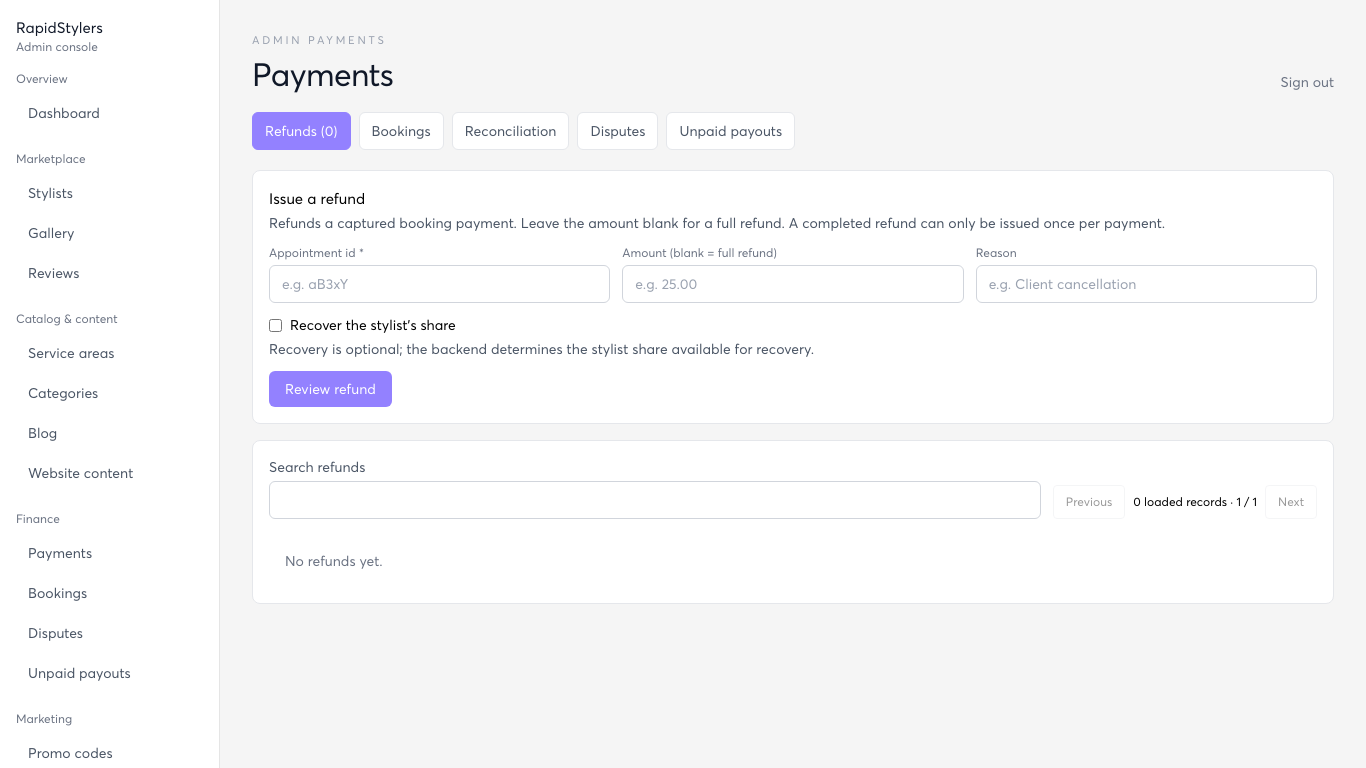
Test: reviews exact entered refund details before any financial request
The width and height of the screenshot is (1366, 768).
Expected: the text "No refunds yet." is shown, [285,552,382,569]
Step 1. Type "appt-42" into the field labelled "Appointment id *" → (440, 284), box [269,265,610,303]
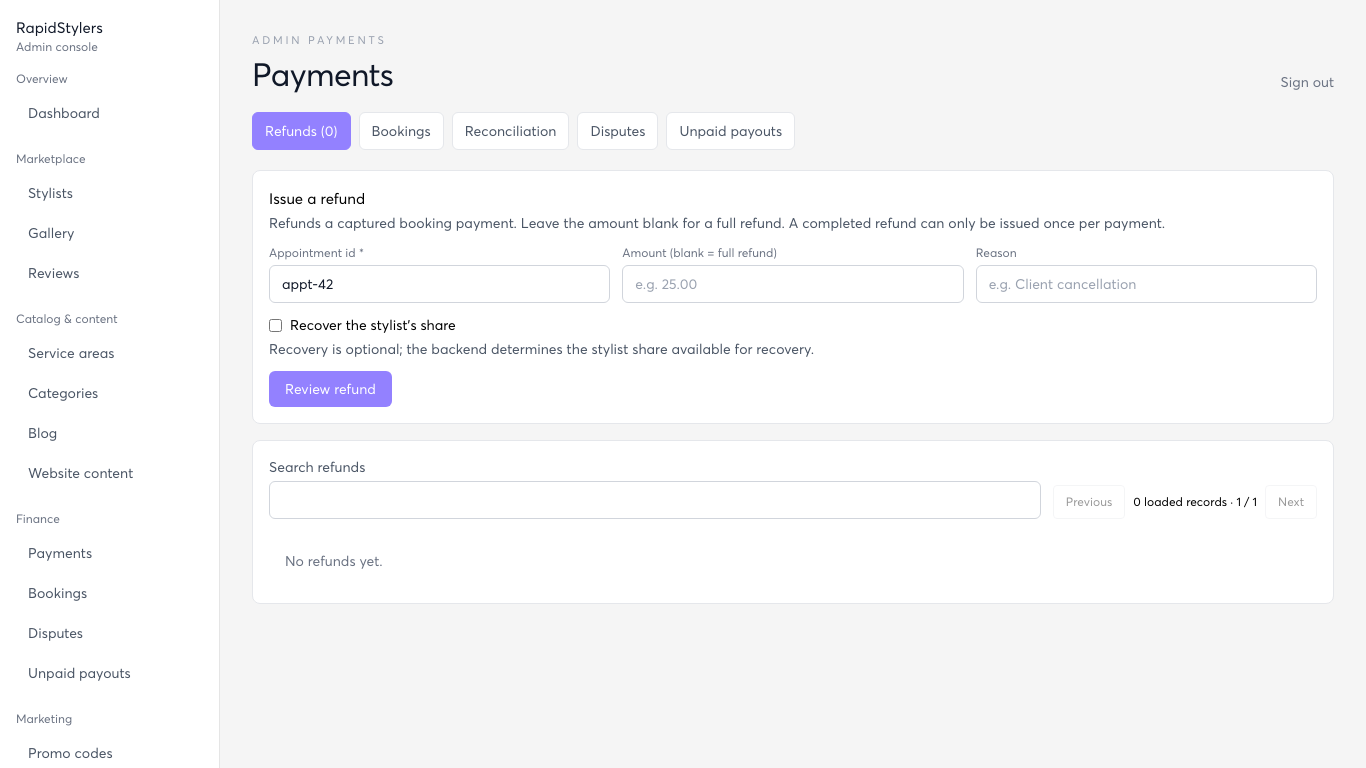
Step 2. Type "25.50" into the number field labelled "Amount (blank = full refund)" → (793, 284), box [622,265,964,303]
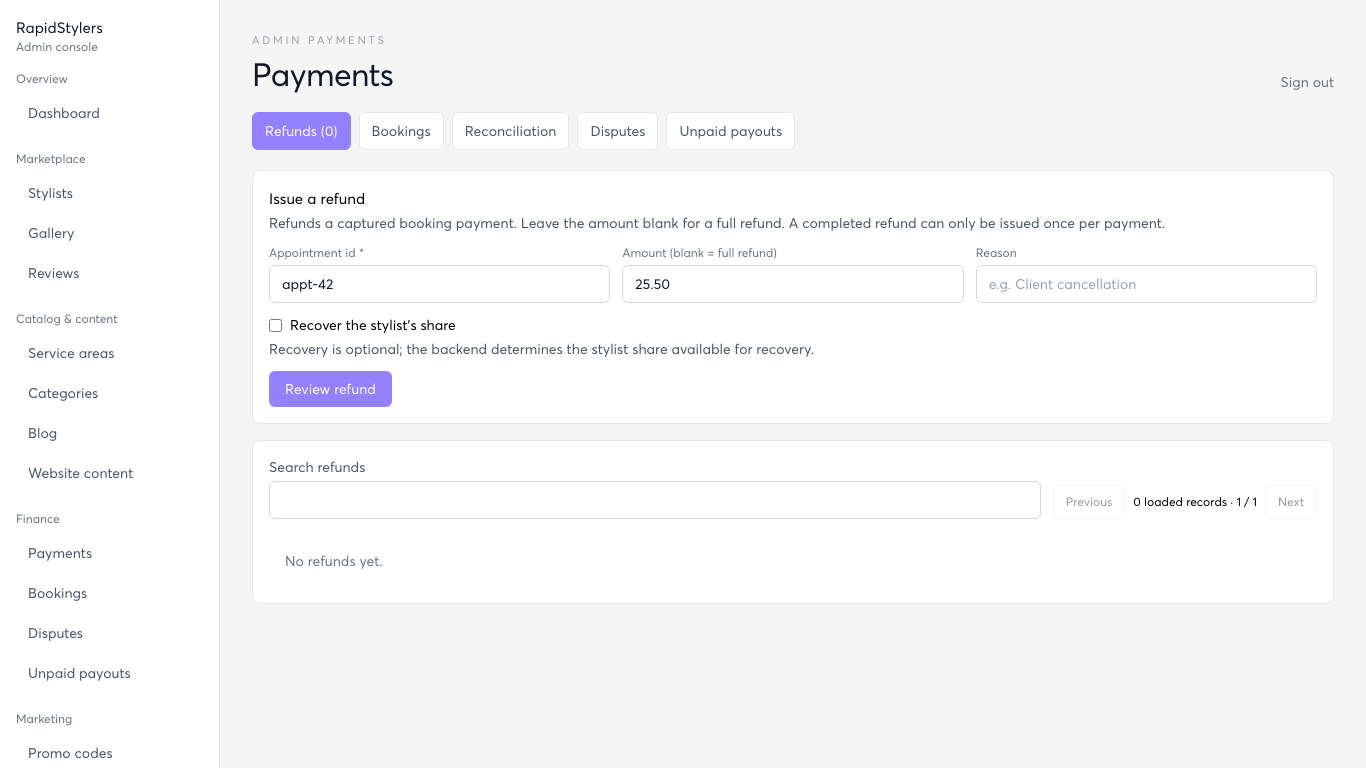
Step 3. Type "Client cancellation" into the field labelled "Reason" → (1146, 284), box [976,265,1317,303]
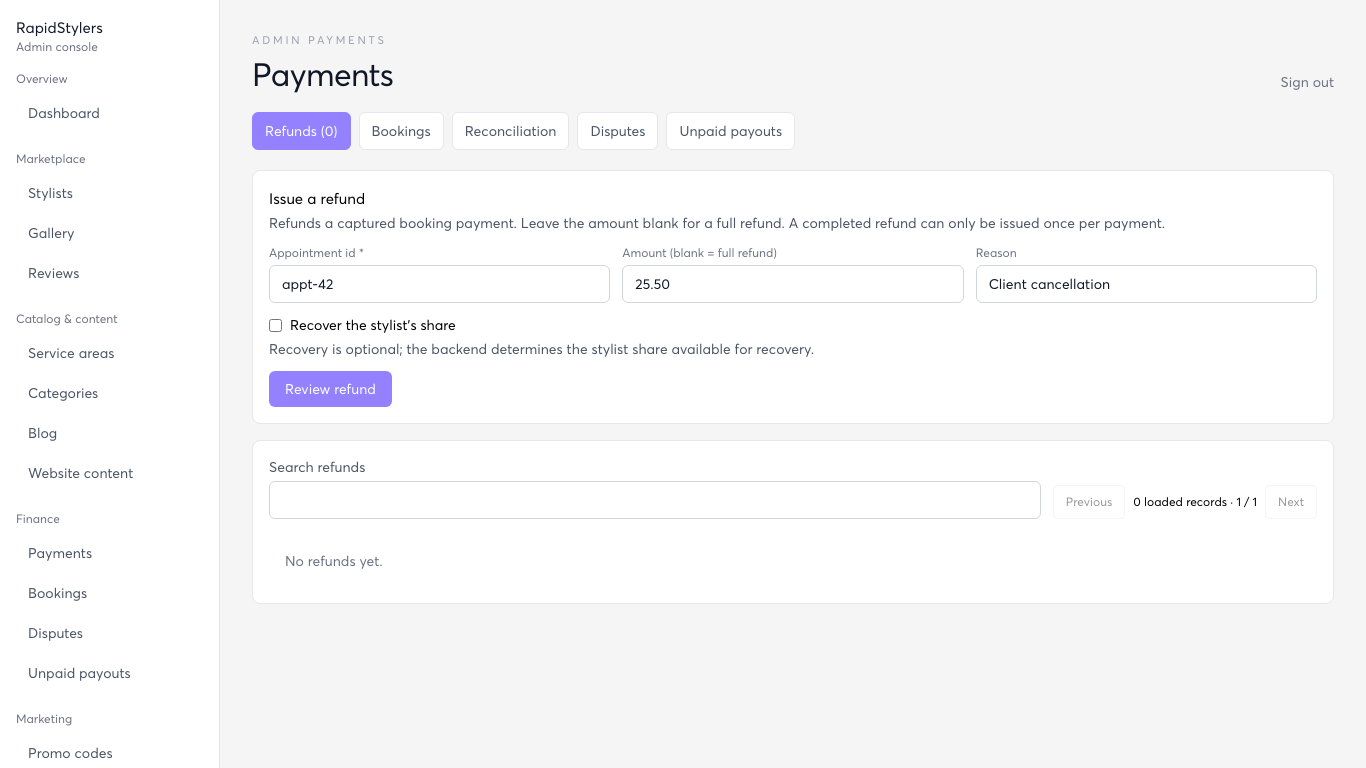
Step 4. Click the button "Review refund" → (330, 389), box [269,371,392,407]
(page scrolled)
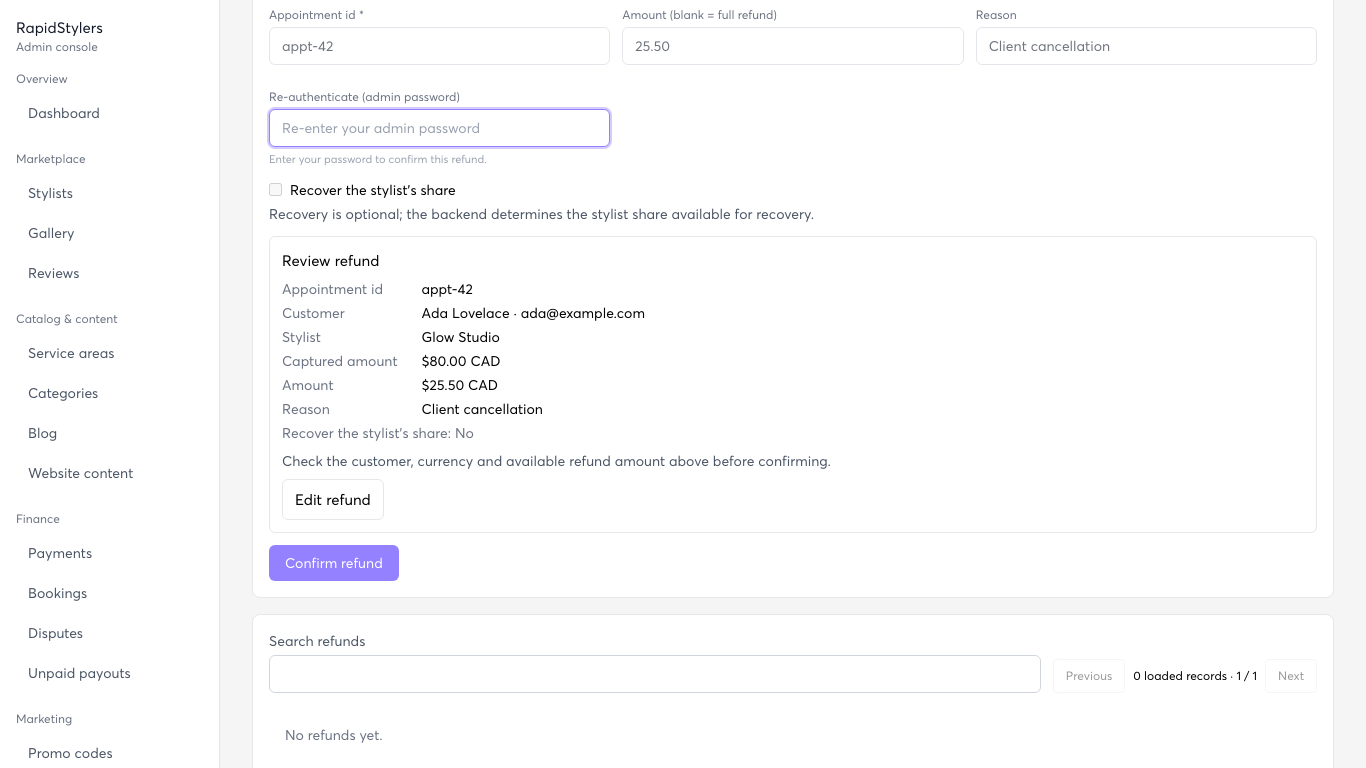
Result: the element "Review refund" shows "Ada Lovelace" at [422,304,645,321]
Result: the element "Review refund" shows "Glow Studio" at [422,328,500,345]
Result: the element "Review refund" shows "$80.00 CAD" at [269,236,1317,533]
